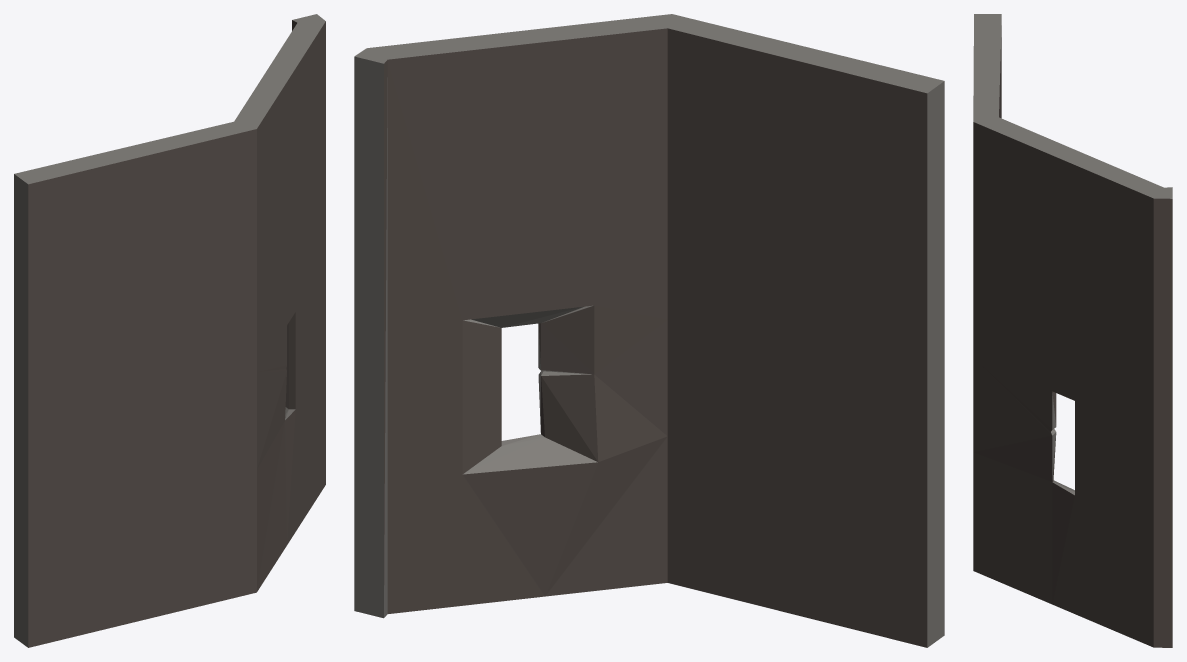
Rendered from MCastle_OctWall_Int_08.FBX.
3 renders of one model, left to right at view 1: azimuth 30°, elevation 25°; view 2: azimuth 150°, elevation 25°; view 3: azimuth 270°, elevation 25°, orthographic. The views are drawn at different scales.
Visible parts, largest first — view 1: MCastle_OctWall_Int_08; view 2: MCastle_OctWall_Int_08; view 3: MCastle_OctWall_Int_08.
Boxes of the visible parts, x1,y1,x2,y2 form: MCastle_OctWall_Int_08: (14, 14, 325, 647); MCastle_OctWall_Int_08: (354, 14, 944, 647); MCastle_OctWall_Int_08: (973, 14, 1172, 647).
Bounding box in the file's own units: 155 × 176 × 70.67.
